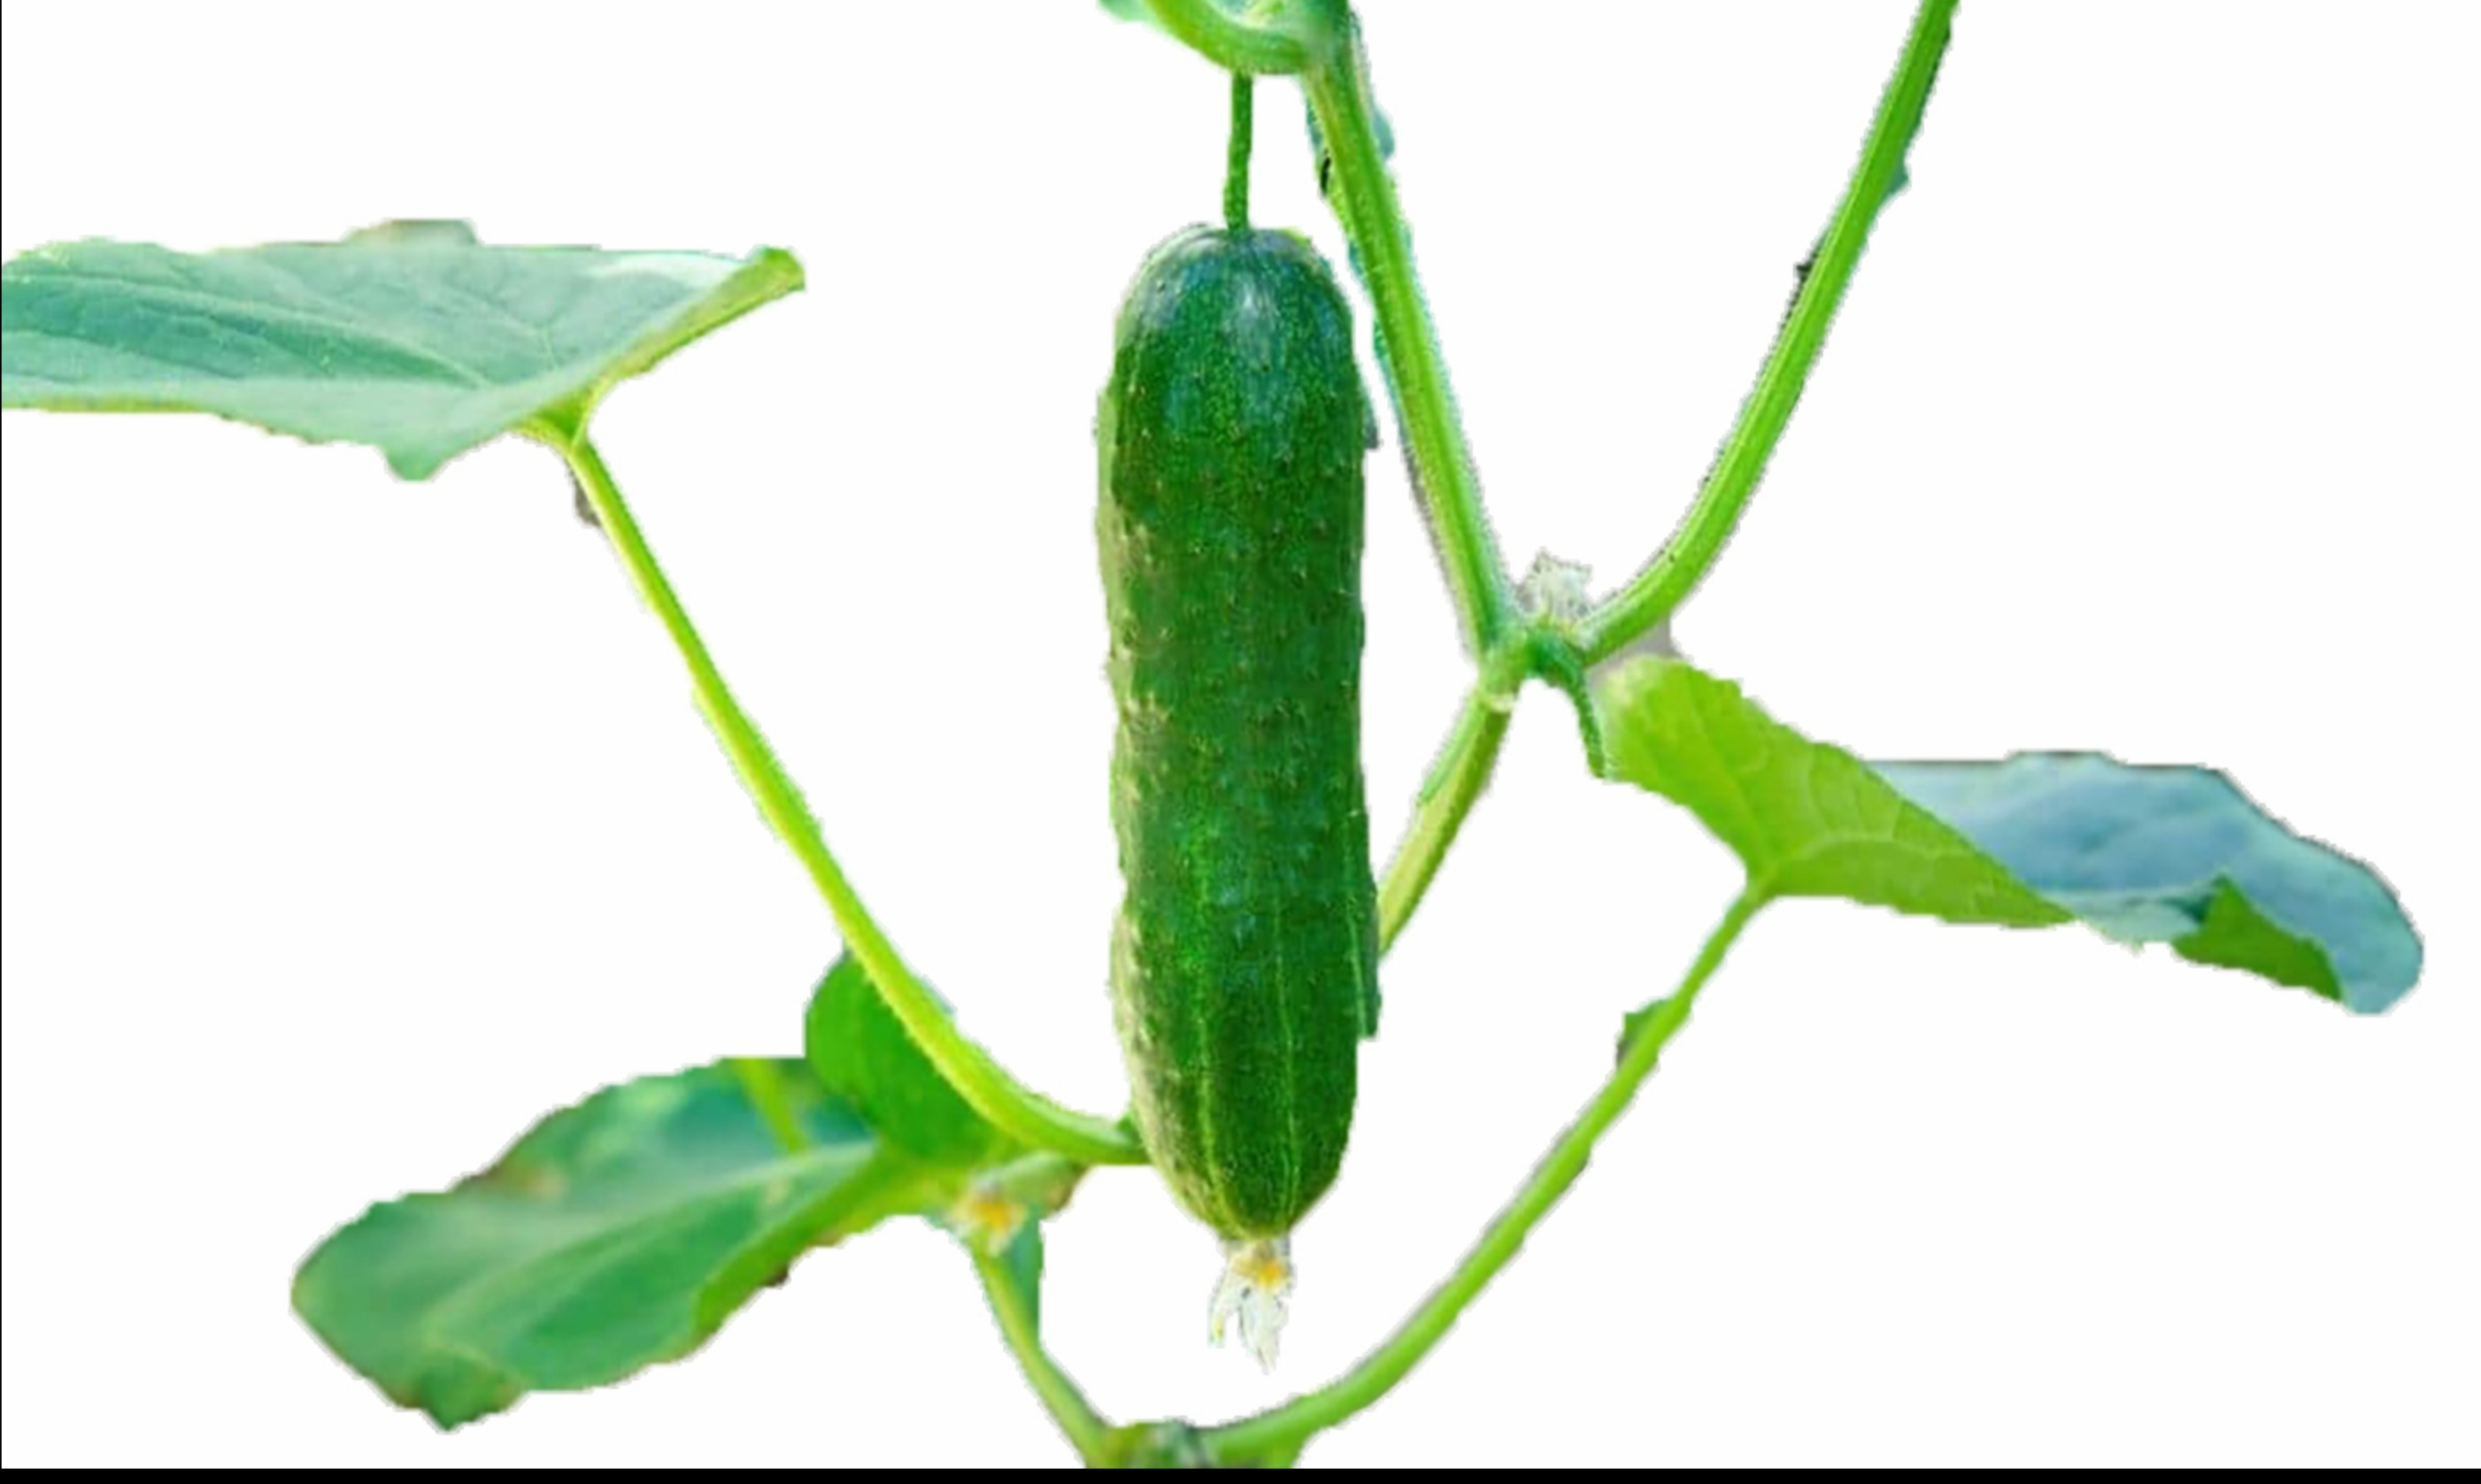corn_plant: (5, 217, 1085, 1461)
cucumber: (1080, 154, 1391, 1272)
cucumber_plant: (1415, 666, 2430, 1406)
